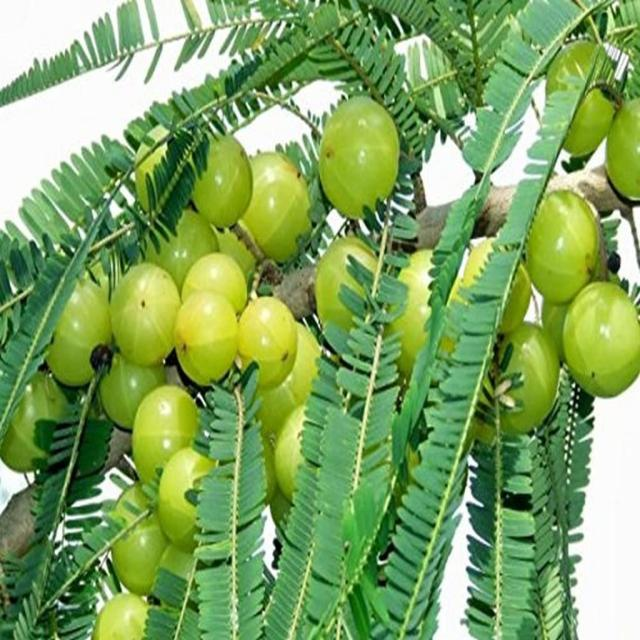Amla: (79, 162, 640, 640), (350, 213, 640, 550), (172, 108, 486, 380), (104, 207, 350, 427), (433, 43, 640, 215), (37, 273, 210, 438), (72, 10, 208, 154)
